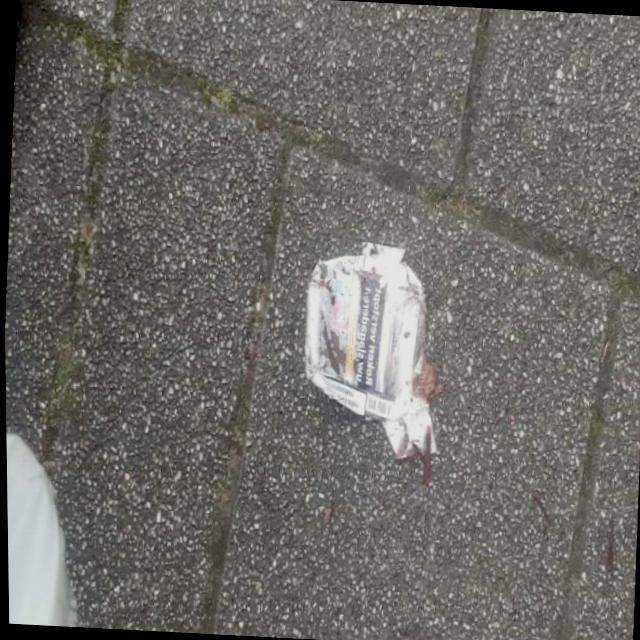Paper: (293, 237, 446, 464)
